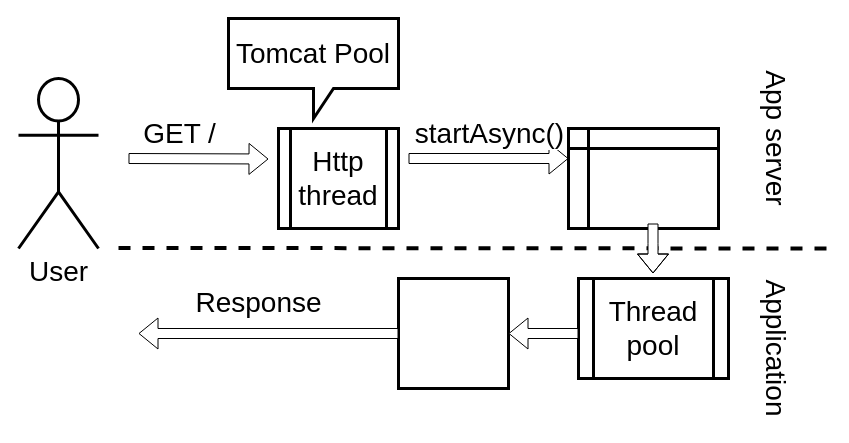
The diagram is 849 pixels wide and 443 high, and some of its shapes have lost their labels. The centre of each missing label's shape, as x and y in pixels:
"Async Context" goes at point (643, 178).
"Handler" goes at point (453, 333).
